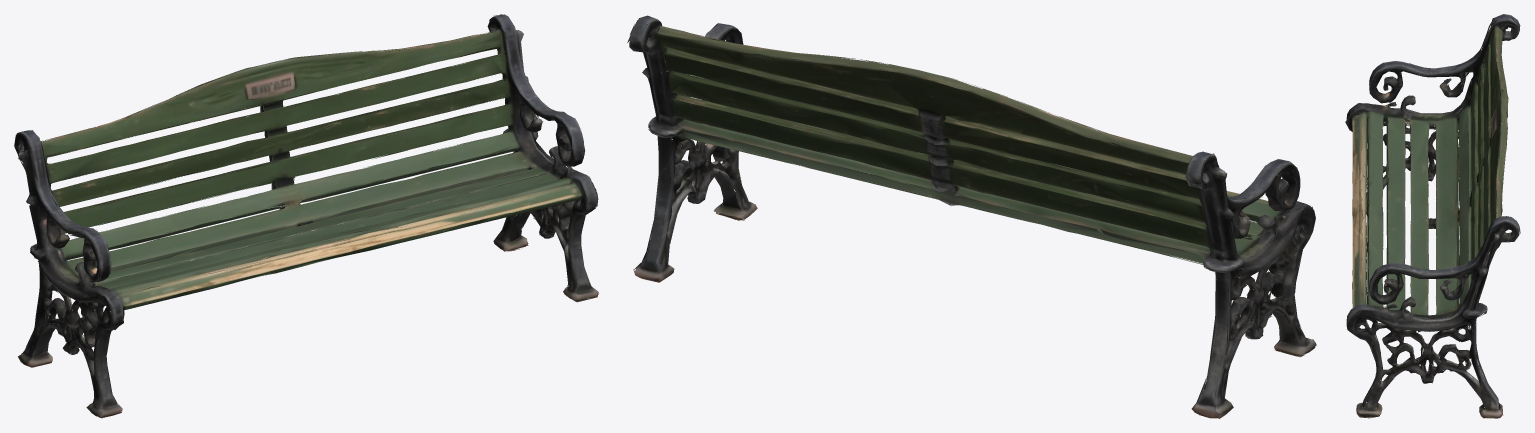
The model's file is banco_plaza_1940.glb.
The picture shows the model from 3 angles, left to right: view 1: azimuth 30°, elevation 25°; view 2: azimuth 150°, elevation 25°; view 3: azimuth 270°, elevation 25°; orthographic projection. The views are drawn at different scales.
Visible parts, largest first — view 1: geometry_0; view 2: geometry_0; view 3: geometry_0.
Part boxes in pixels (x1,y1,x2,y2): geometry_0: (14,14,598,418); geometry_0: (627,15,1316,418); geometry_0: (1345,14,1520,418).
Bounding box in the file's own units: 1.9 × 0.8495 × 0.6566.
1 material, 1 textured.
